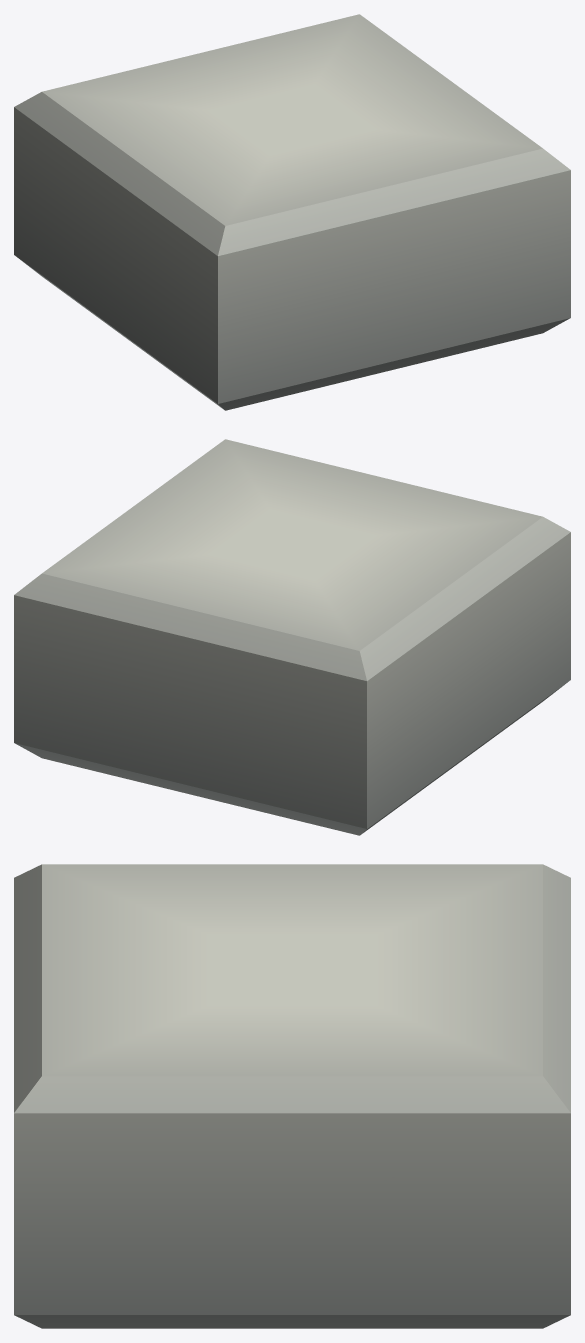
File: Tile_Concrete_Small_01.fbx
The picture shows the model from 3 angles, top to bottom: view 1: azimuth 30°, elevation 25°; view 2: azimuth 150°, elevation 25°; view 3: azimuth 270°, elevation 25°; orthographic projection. The views are drawn at different scales.
Visible parts, largest first — view 1: Tile_Concrete_Small_01; view 2: Tile_Concrete_Small_01; view 3: Tile_Concrete_Small_01.
Part boxes in pixels (x1=…): Tile_Concrete_Small_01: x1=14, y1=14, x2=570, y2=410; Tile_Concrete_Small_01: x1=14, y1=439, x2=570, y2=835; Tile_Concrete_Small_01: x1=14, y1=864, x2=570, y2=1328.
Bounding box in the file's own units: 100 × 50 × 100.
